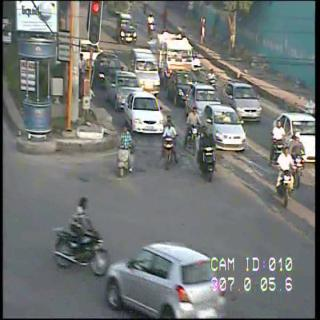Vehicle-Crash_Detected: (43, 201, 207, 316)
